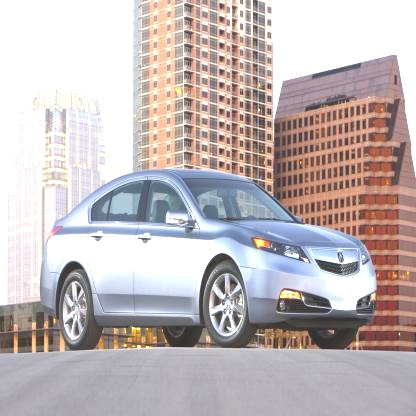Vehicle: (40, 168, 376, 352)
